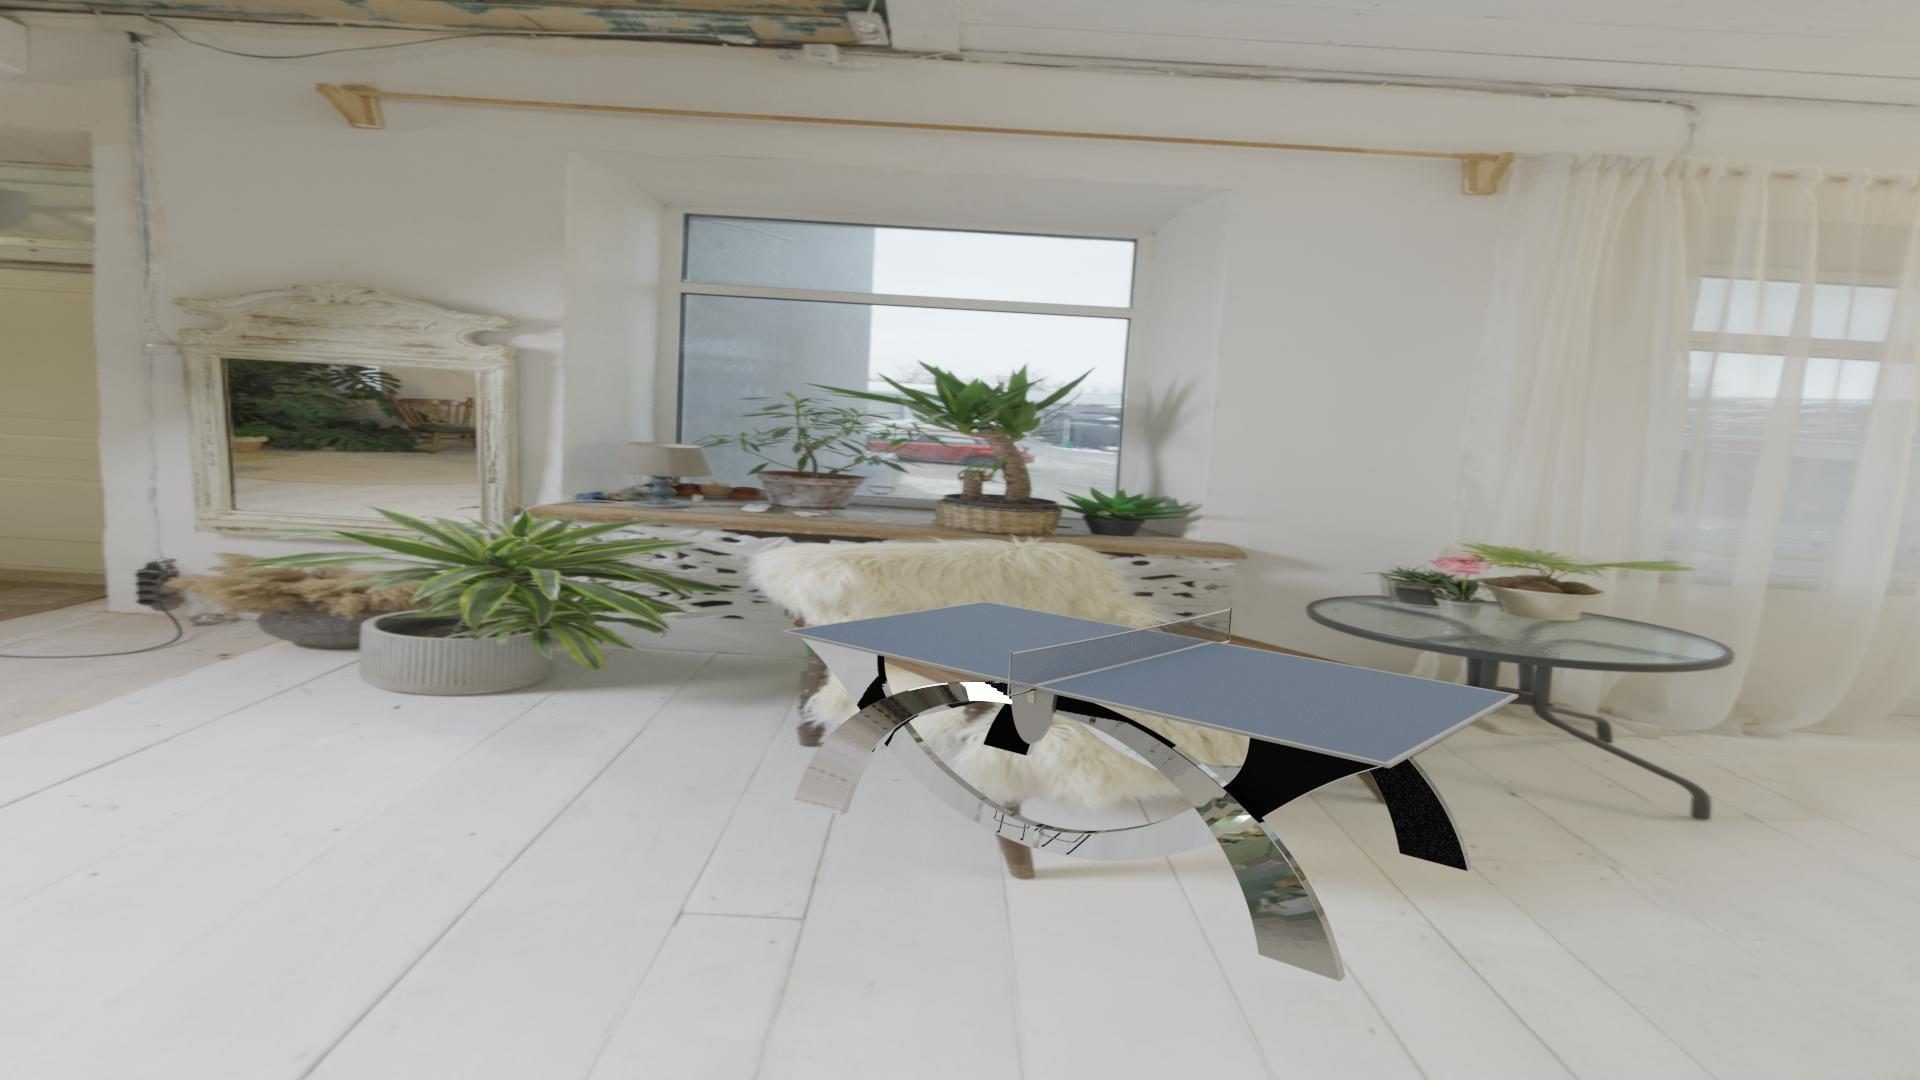table: (786, 603, 1513, 762)
